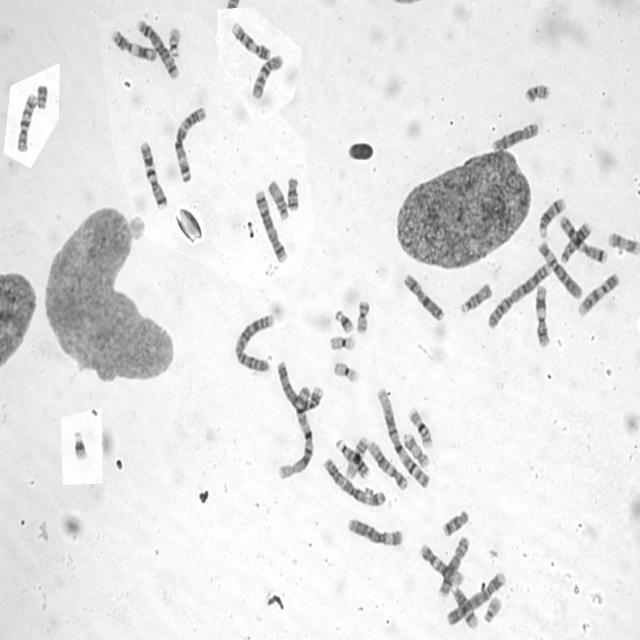A1: (374, 382, 432, 491), (275, 381, 319, 481)
A2: (486, 258, 554, 331), (232, 310, 275, 374)
A3: (321, 455, 387, 508), (172, 101, 208, 185)
B4: (444, 569, 506, 626), (274, 357, 326, 413)
B5: (135, 17, 179, 81), (252, 188, 288, 264)
C10: (250, 52, 286, 100), (14, 90, 38, 154)
C11: (109, 27, 158, 63), (534, 281, 551, 349)
C12: (365, 437, 409, 492), (418, 541, 464, 586)
C6: (536, 238, 583, 300), (346, 515, 404, 547)
C7: (557, 213, 608, 265), (137, 138, 170, 210)
C8: (436, 533, 471, 598), (490, 118, 540, 153)
C9: (576, 270, 620, 318), (230, 19, 271, 61)
D13: (334, 435, 372, 480), (558, 219, 592, 264)
D14: (536, 194, 567, 240), (449, 584, 479, 628)
D15: (457, 280, 493, 315), (266, 177, 290, 222)
E16: (339, 434, 371, 481), (407, 404, 434, 450)
E17: (400, 429, 430, 470), (606, 229, 638, 257)
E18: (440, 506, 470, 538), (285, 174, 300, 212)
F19: (330, 358, 361, 384), (327, 332, 357, 352)
F20: (523, 79, 551, 104), (354, 297, 371, 335)
G21: (70, 427, 90, 462), (333, 306, 355, 334)
G22: (481, 592, 502, 624), (167, 24, 182, 59)
X: (401, 269, 446, 323)
Y: (34, 81, 49, 110)
